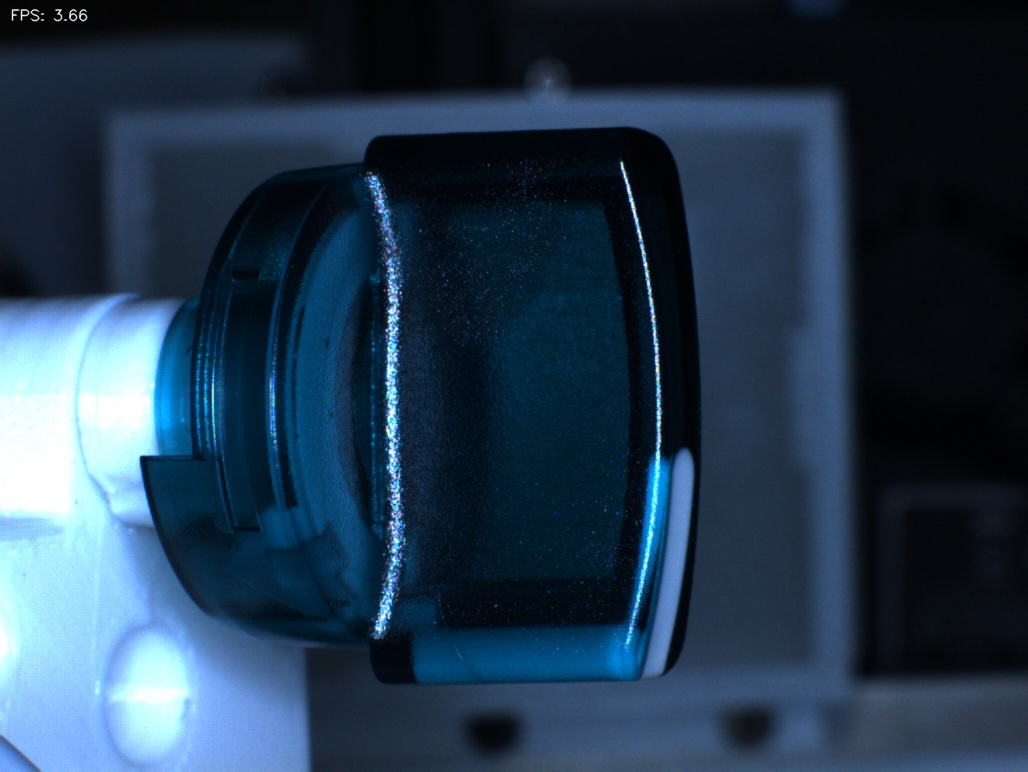PointNoir: (294, 308, 361, 371)
